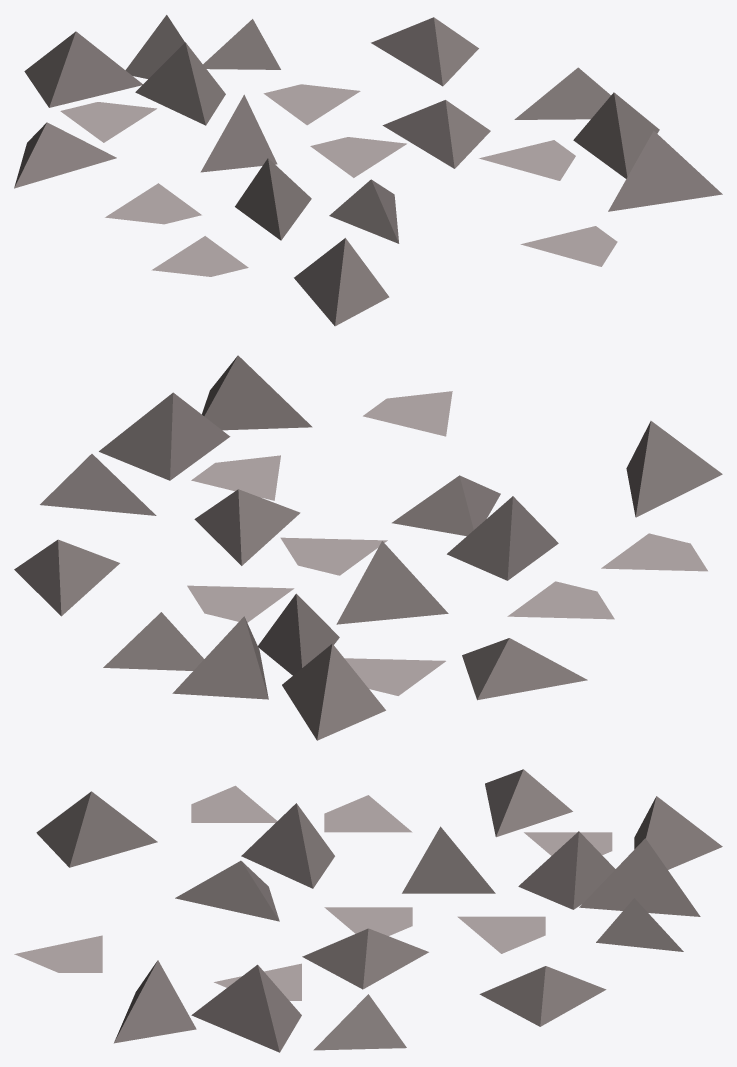
The picture shows the model from 3 angles, top to bottom: view 1: azimuth 30°, elevation 25°; view 2: azimuth 150°, elevation 25°; view 3: azimuth 270°, elevation 25°; orthographic projection. The views are drawn at different scales.
Size of the model in its own units: 115 by 12 by 128.
Materials: 1 (1 with a texture image).
